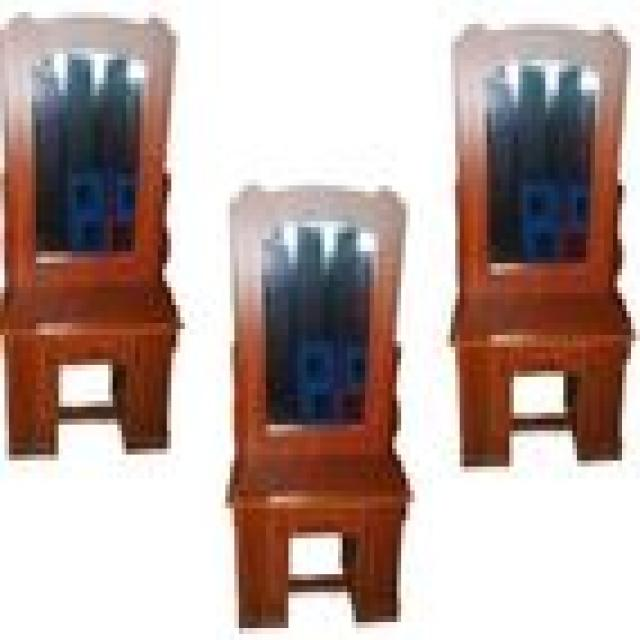others: (216, 161, 415, 640), (437, 18, 640, 472), (5, 6, 198, 473)
